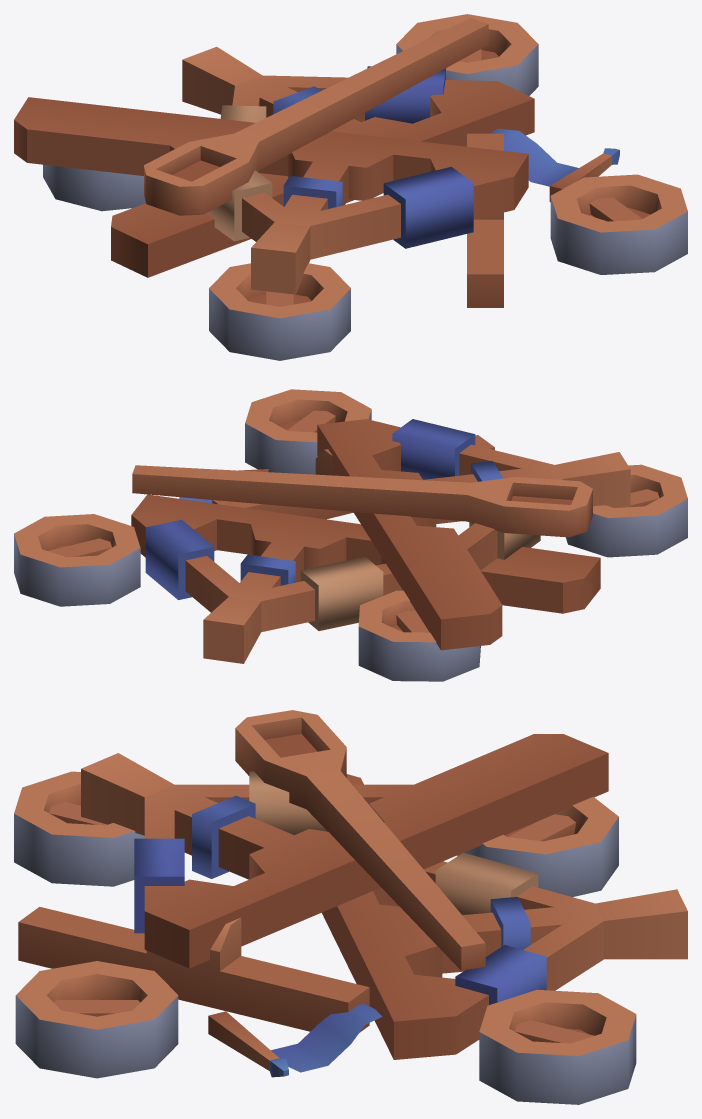
Rendered from siege-catapult-demolished.glb.
The picture shows the model from 3 angles, top to bottom: view 1: azimuth 30°, elevation 25°; view 2: azimuth 150°, elevation 25°; view 3: azimuth 270°, elevation 25°; orthographic projection. The views are drawn at different scales.
Parts seen in each view (by area): view 1: siege-catapult-demolished; view 2: siege-catapult-demolished; view 3: siege-catapult-demolished.
Boxes of the visible parts, <box> form: siege-catapult-demolished: <box>14,14,687,360</box>; siege-catapult-demolished: <box>14,389,687,681</box>; siege-catapult-demolished: <box>14,710,687,1104</box>.
Bounding box in the file's own units: 1.68 × 0.3213 × 1.67.
